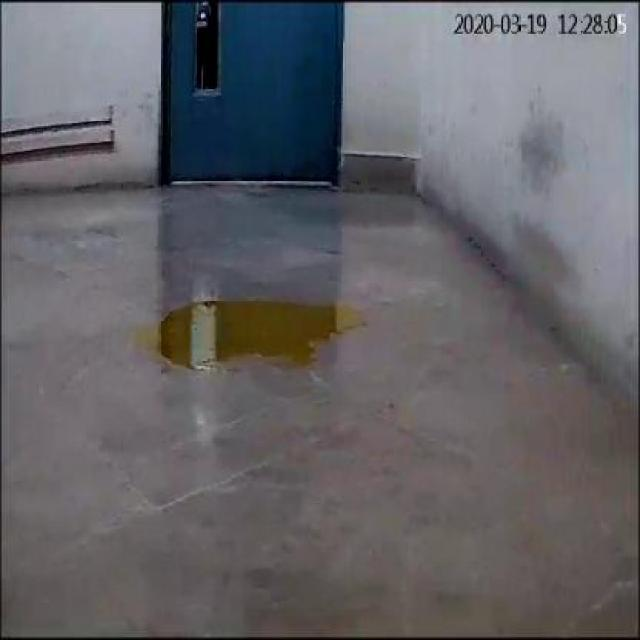spill: (130, 297, 370, 372)
